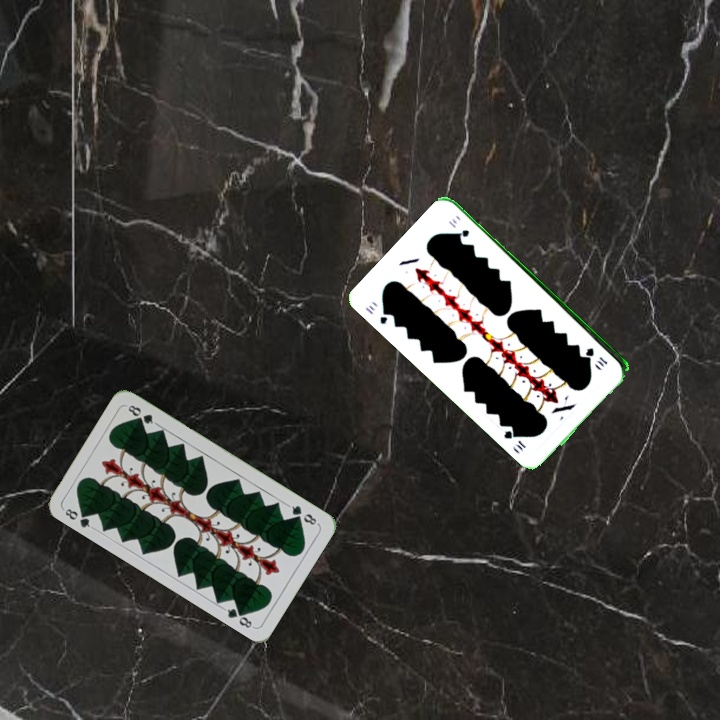G10: (361, 301, 393, 327), (583, 344, 610, 369)
G8: (60, 504, 96, 532), (284, 501, 321, 528)
